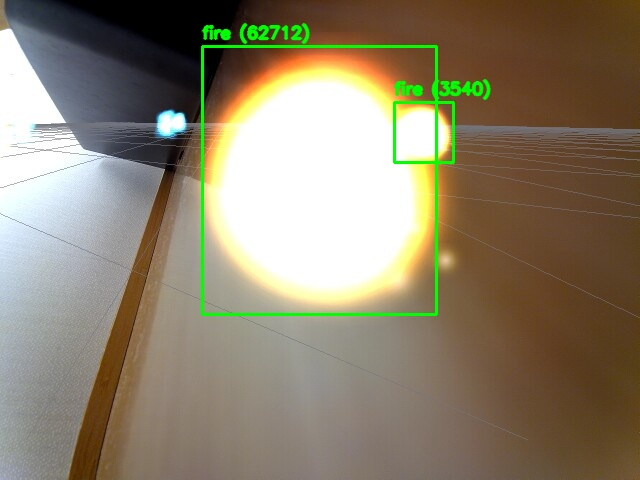fire: (202, 46, 436, 314), (394, 102, 453, 162)
